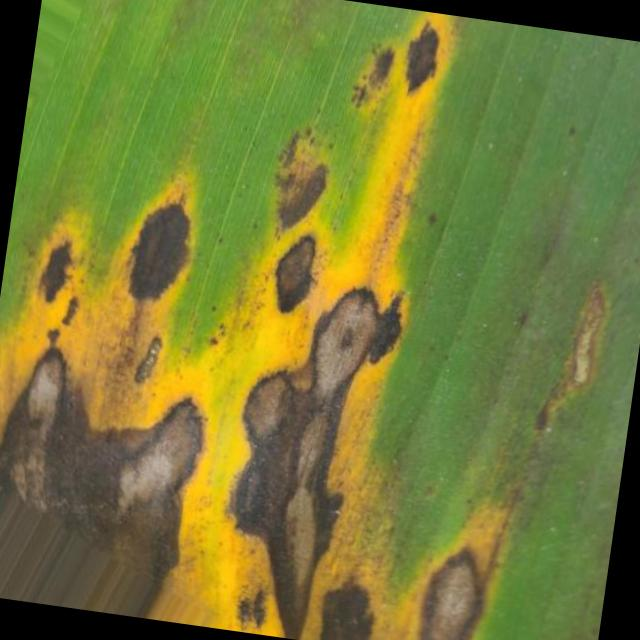Banana_Yellow_Sigatoka: (0, 111, 561, 640)
